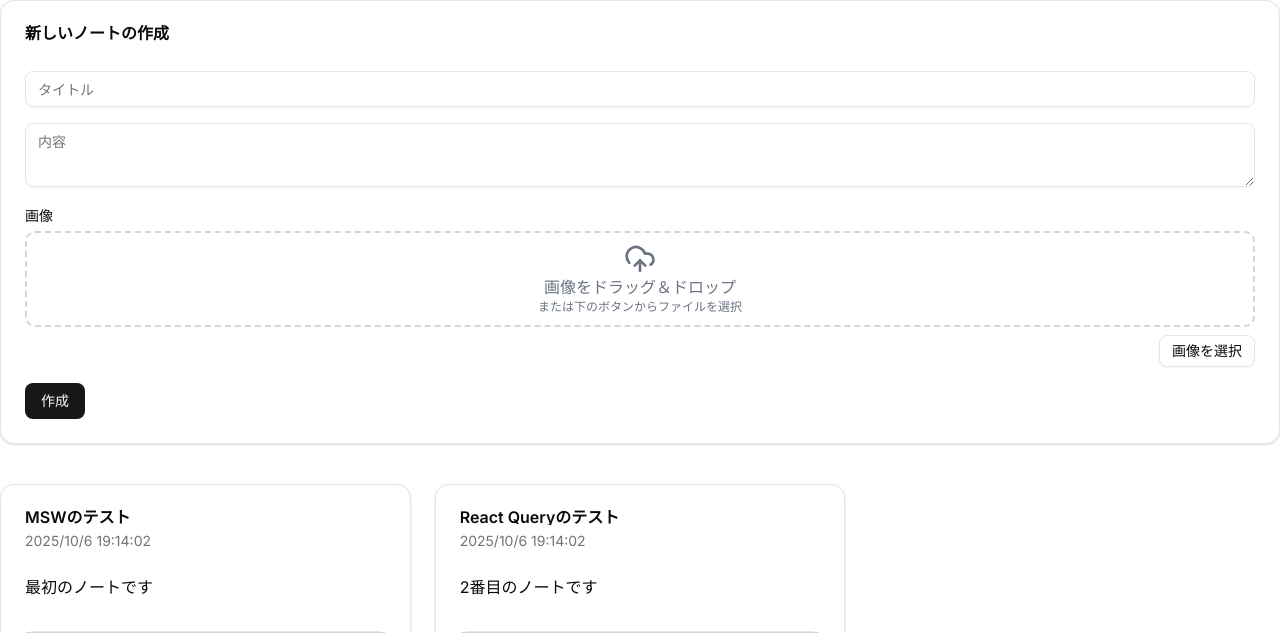
Test case: NoteContainer with MSW › 新しいノートを作成後、ノート一覧にそのノートが追加されること
The image size is (1280, 633).
Type "新しいノート" into the field with placeholder "タイトル".
click(640, 89); type("新しいノート")  # box top-left (25, 71), bottom-right (1255, 107)
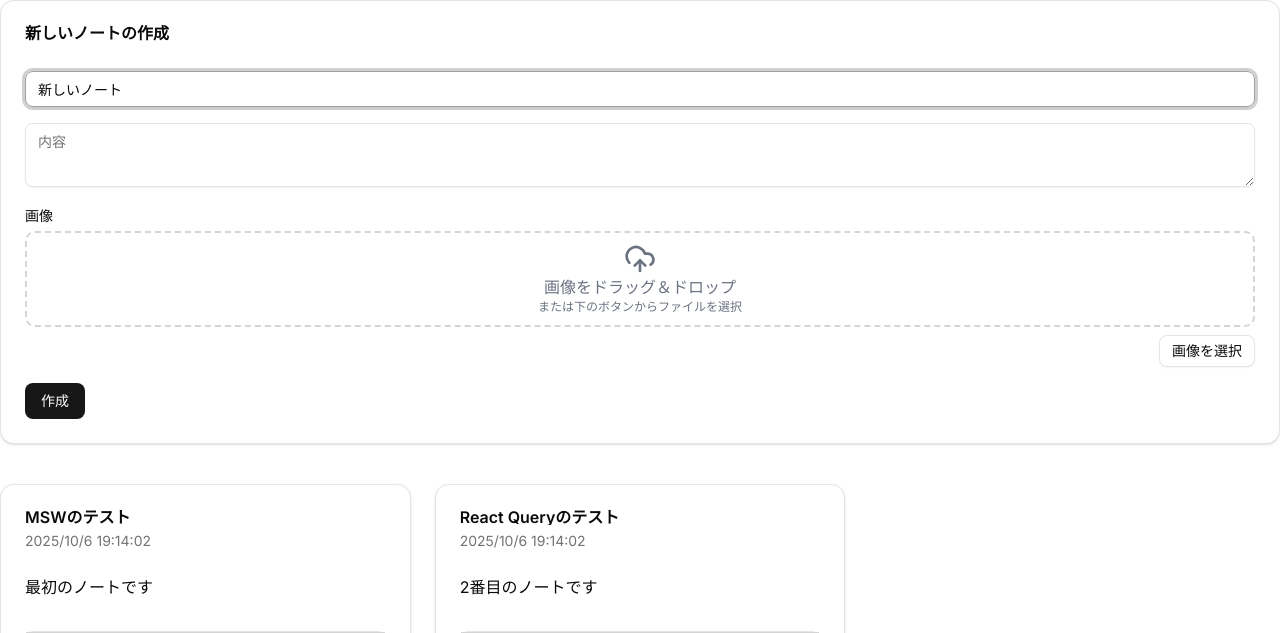
Type "テストで追加しました。" into the text box with placeholder "内容".
click(640, 155); type("テストで追加しました。")  # box top-left (25, 123), bottom-right (1255, 187)
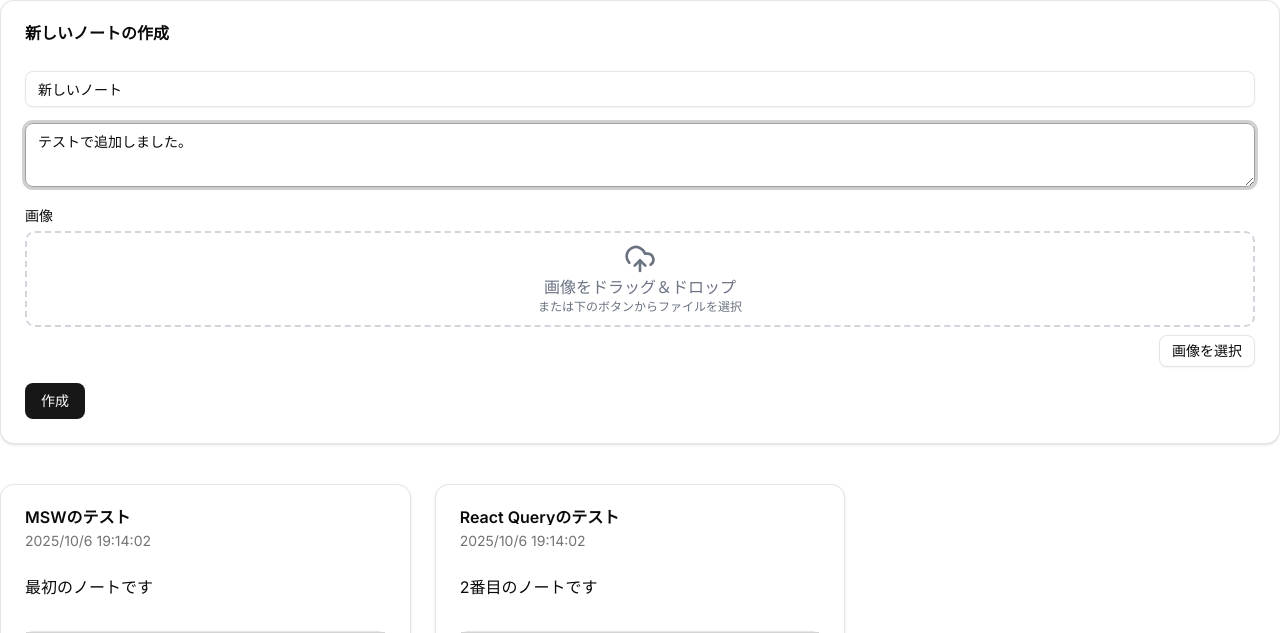
作成ボタンをクリック
Click the button "作成".
click(55, 401)  # box top-left (25, 383), bottom-right (85, 419)
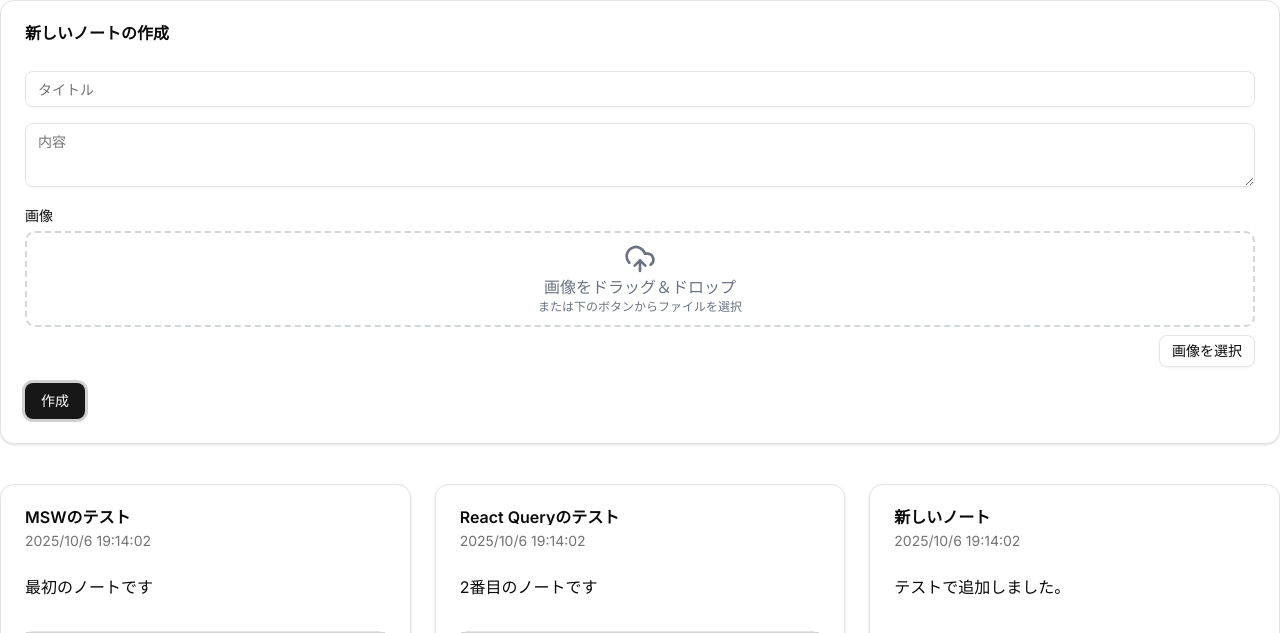
Expected: the text "新しいノート" is shown, top-left (894, 507), bottom-right (990, 527)
